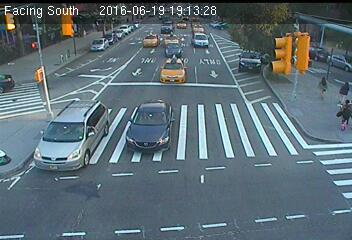neg: (75, 115, 94, 140)
pos: (312, 73, 334, 102)
